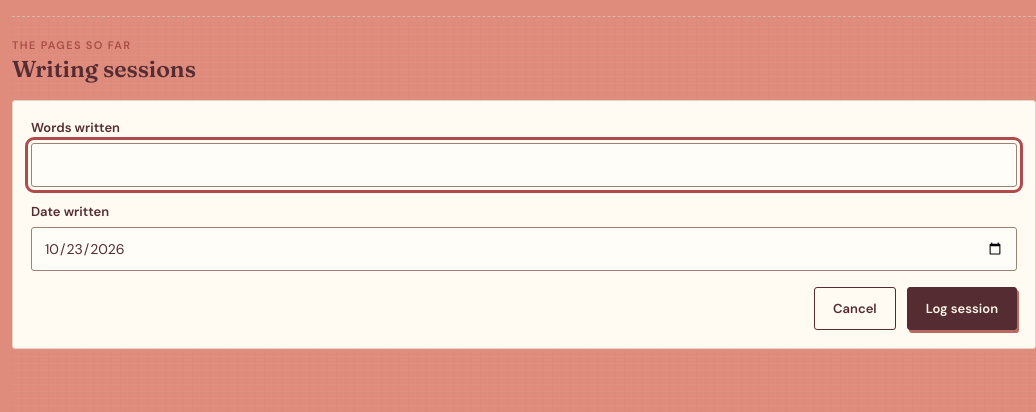
Test: SessionHistory › rejects invalid counts and future dates without saving
In the field labelled "Words written": (524, 165) [31, 143, 1017, 187], type "0"
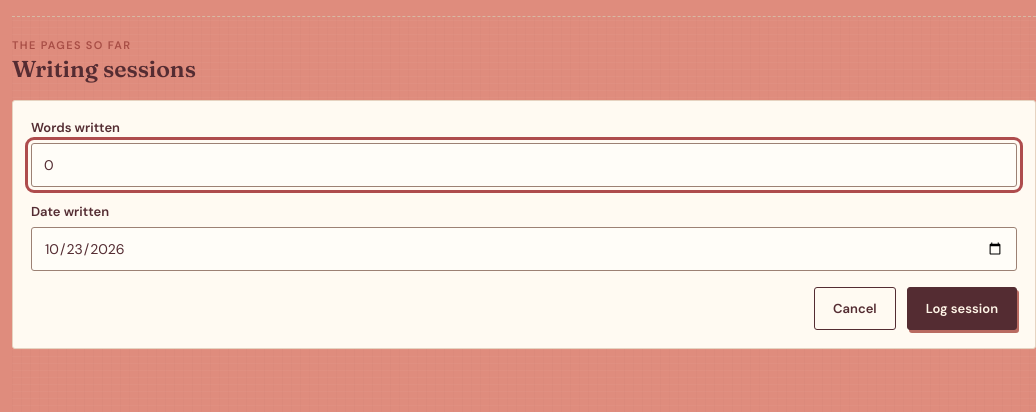
In the date field labelled "Date written": (524, 249) [31, 227, 1017, 271], type "2026-10-24"
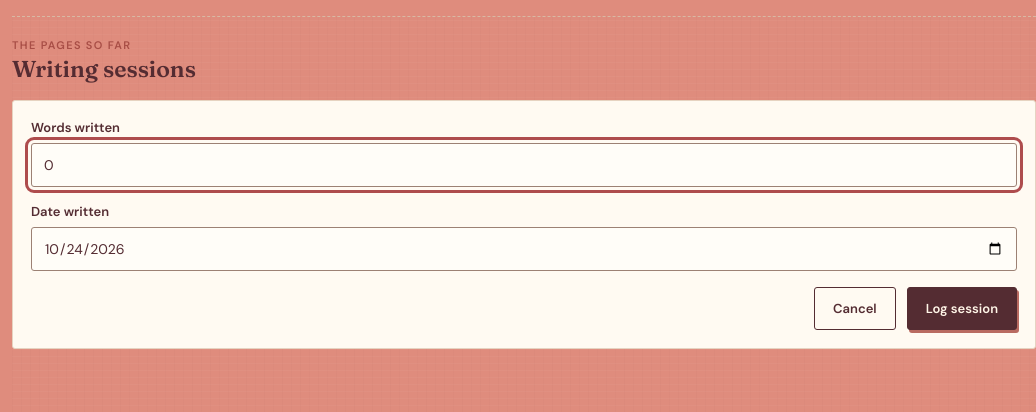
Click the button "Log session": (962, 308) [907, 287, 1017, 330]
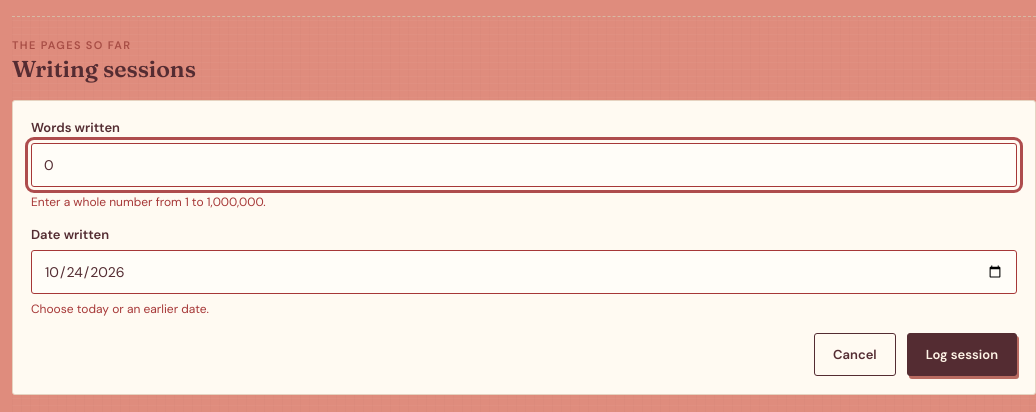
Result: the text "Enter a whole number from 1 to 1,000,000." is shown at [31, 194, 266, 210]
Result: the text "Choose today or an earlier date." is shown at [31, 301, 209, 317]
